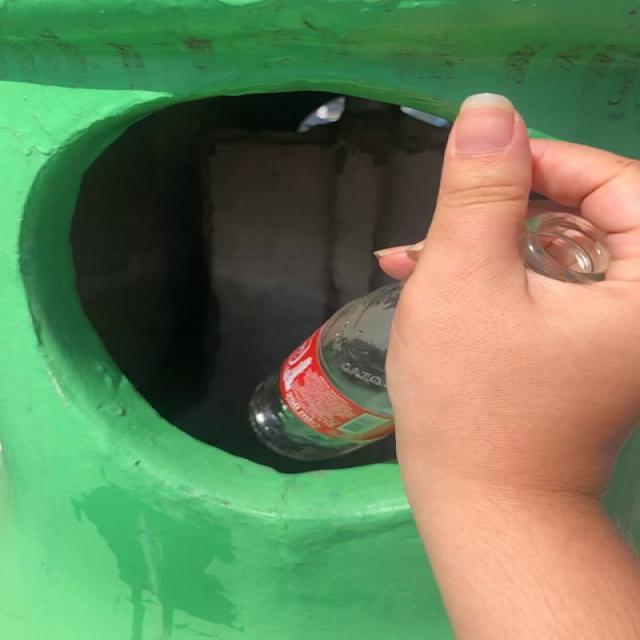glass: (251, 284, 401, 460), (521, 212, 612, 284)
